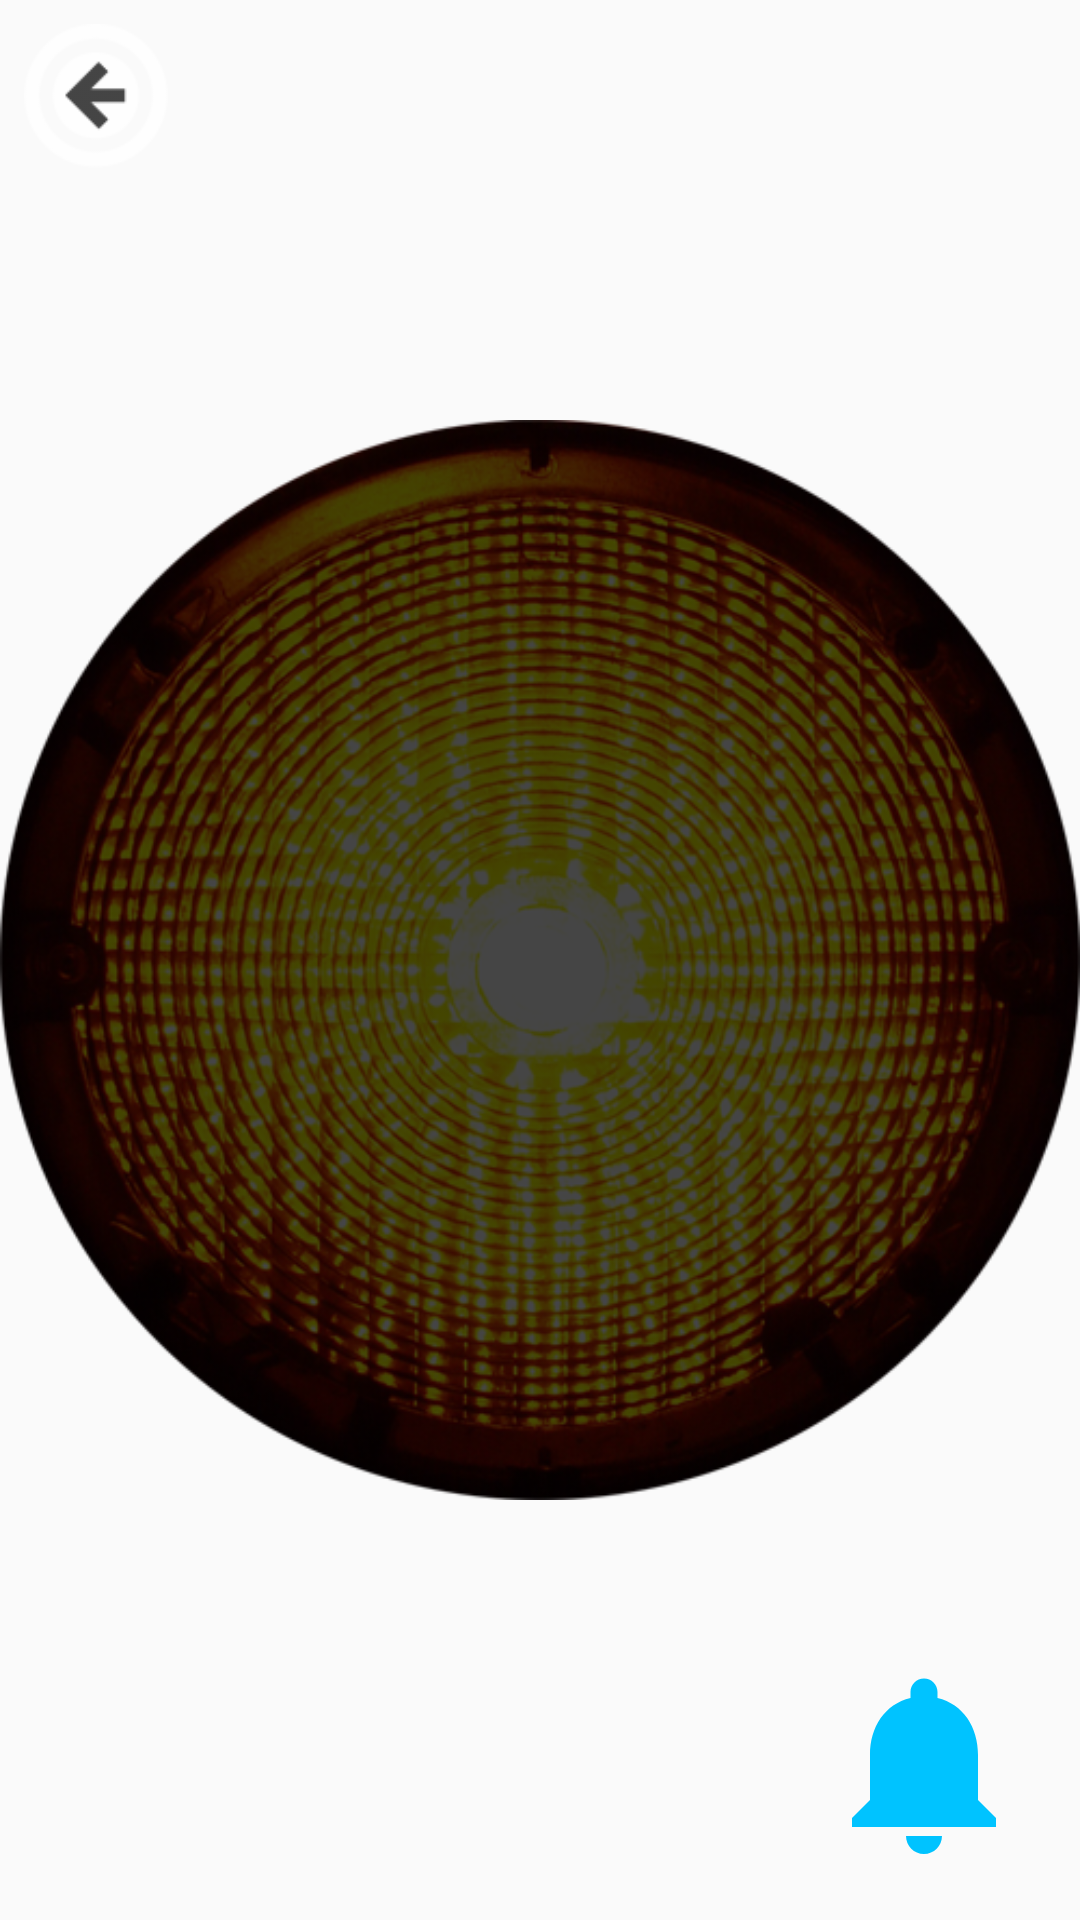

Named icons in this screenshot (1080 × 1920) and their bounding boxes, {"x1": x1, "y1": y1, "x2": x2, "y2": y2}:
back: {"x1": 65, "y1": 61, "x2": 126, "y2": 129}
